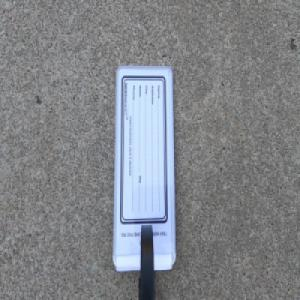LuggageTag: (110, 65, 175, 300)
